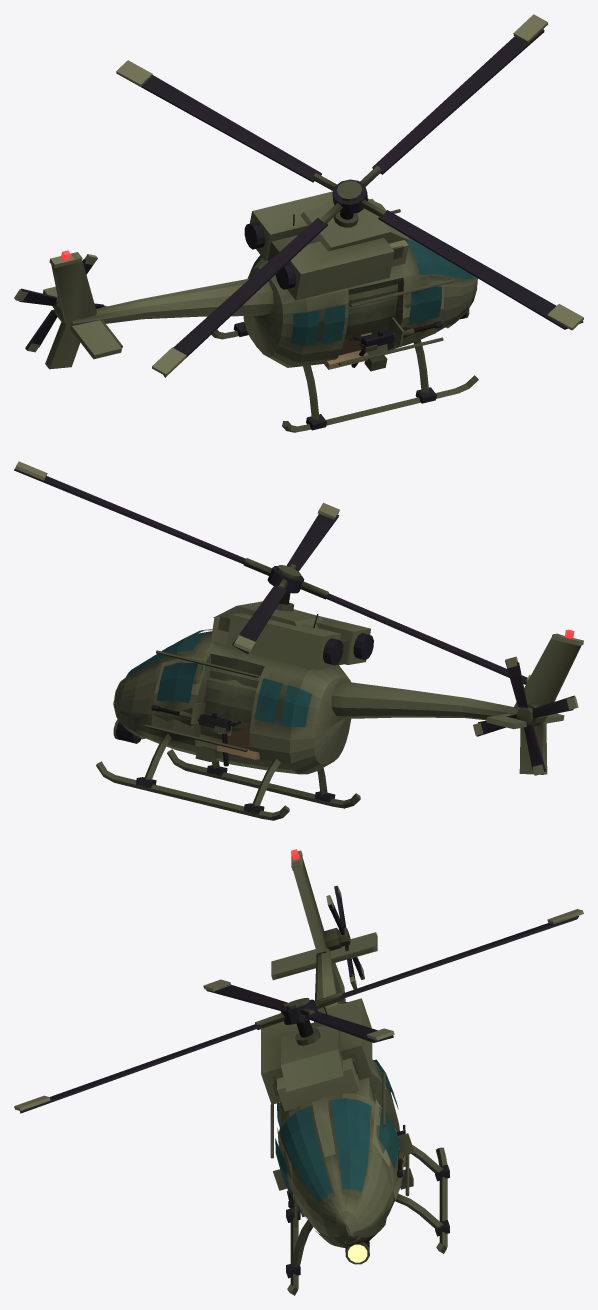
The model's file is prop.l10-crashed-helicopter.lod1.glb.
The picture shows the model from 3 angles, top to bottom: view 1: azimuth 30°, elevation 25°; view 2: azimuth 150°, elevation 25°; view 3: azimuth 270°, elevation 25°; orthographic projection. The views are drawn at different scales.
Parts seen in each view (by area): view 1: body, object 2; view 2: body, object 2; view 3: body, object 2.
Boxes of the visible parts, left/top/right/bottom form: body: left=43, top=191, right=478, bottom=432; object 2: left=14, top=14, right=583, bottom=377; body: left=96, top=591, right=583, bottom=820; object 2: left=14, top=461, right=578, bottom=775; body: left=261, top=850, right=449, bottom=1295; object 2: left=14, top=885, right=583, bottom=1208.
Size of the model in its own units: 10.96 by 5.97 by 9.5.
